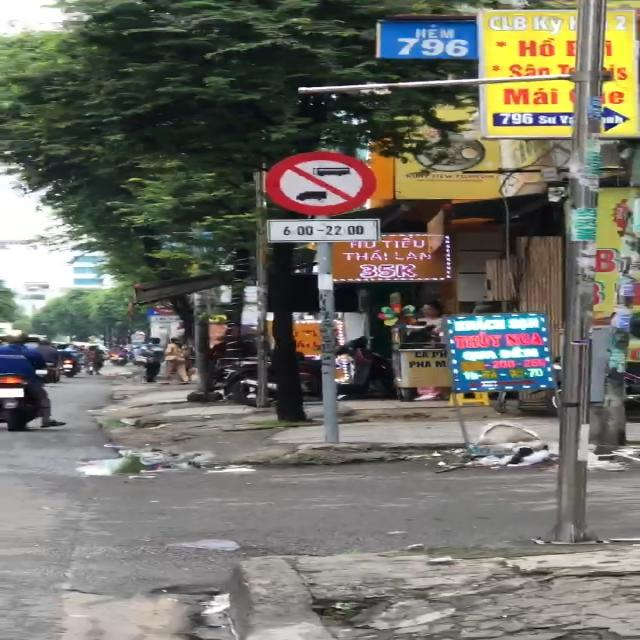Bien bao cam xe oto khach va xe oto tai: (255, 148, 382, 216)
